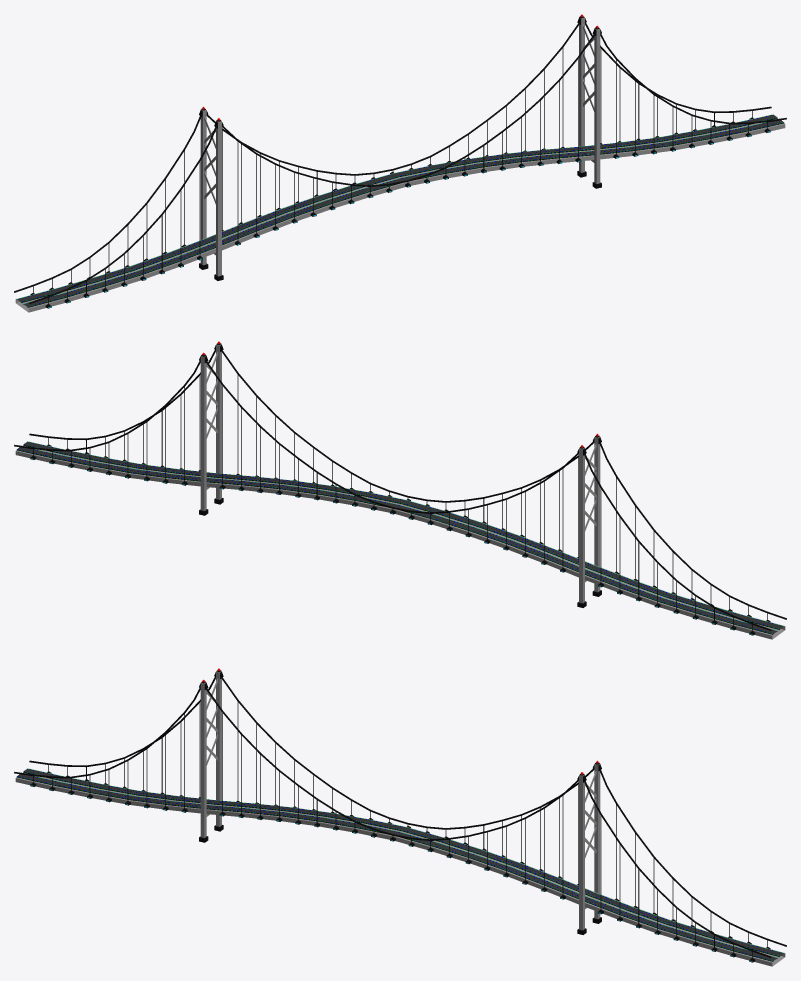
The model's file is SM_LargeBridge.FBX.
3 renders of one model, top to bottom at view 1: azimuth 30°, elevation 25°; view 2: azimuth 150°, elevation 25°; view 3: azimuth 330°, elevation 25°, orthographic.
Parts seen in each view (by area): view 1: SM_CityRoad185; view 2: SM_CityRoad185; view 3: SM_CityRoad185.
Part boxes in pixels (<box>): SM_CityRoad185: <box>14,14,786,312</box>; SM_CityRoad185: <box>14,341,786,639</box>; SM_CityRoad185: <box>14,668,786,966</box>.
Size of the model in its own units: 100000 by 20381 by 4299.
Materials: 5 (1 with a texture image).
